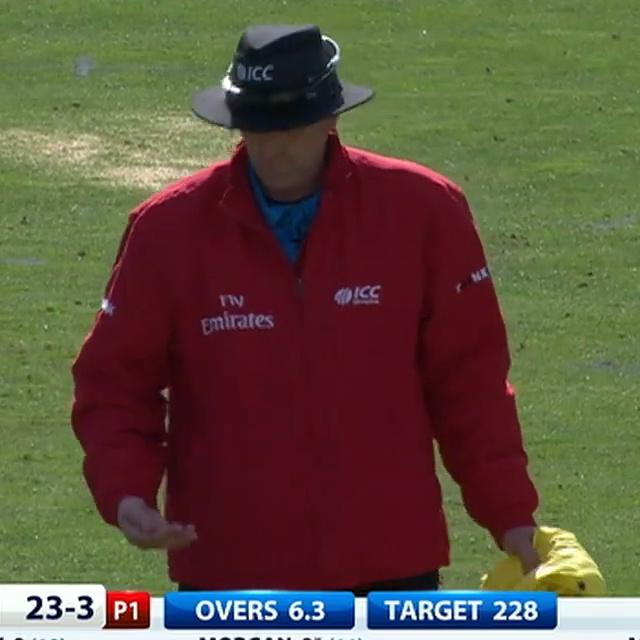umpire: (41, 0, 602, 597)
